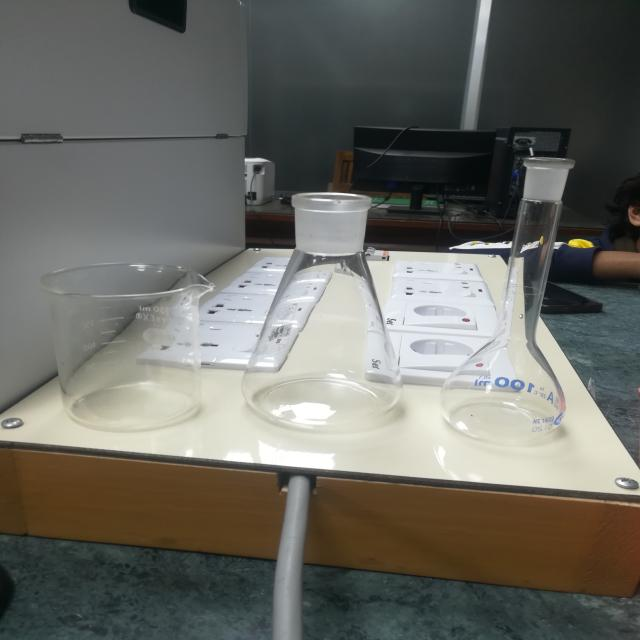Beaker: (26, 228, 225, 436)
Conical_Flask: (239, 172, 420, 440)
Volumetric_Flask: (428, 131, 609, 447)
